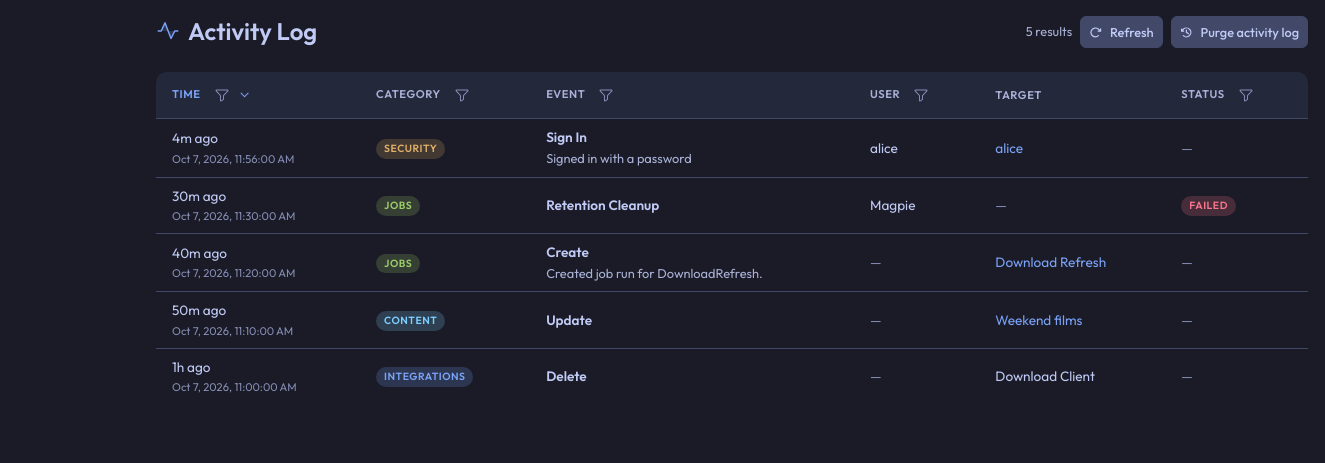
Scenario: ActivityLogPage › WritesTheChoiceToTheUrl_WhenAColumnFilterIsChosen User alice
Expected: the cell "Magpie" is shown, [854, 177, 979, 233]
Click the button named "Filter by User" at (921, 95), box [908, 82, 934, 108]
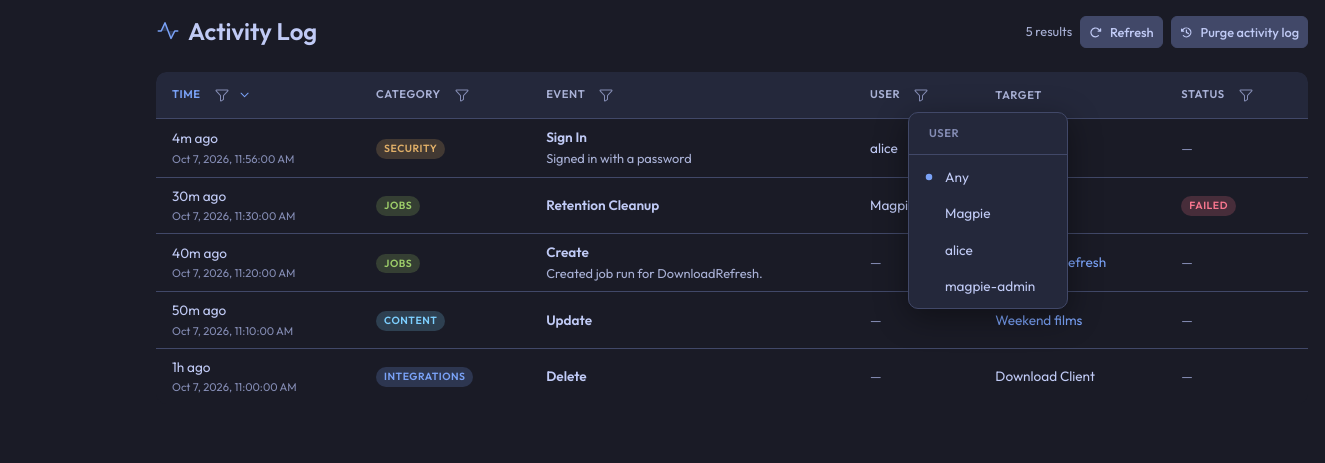
Click the menu item "alice" at (959, 250), box [945, 241, 973, 259]
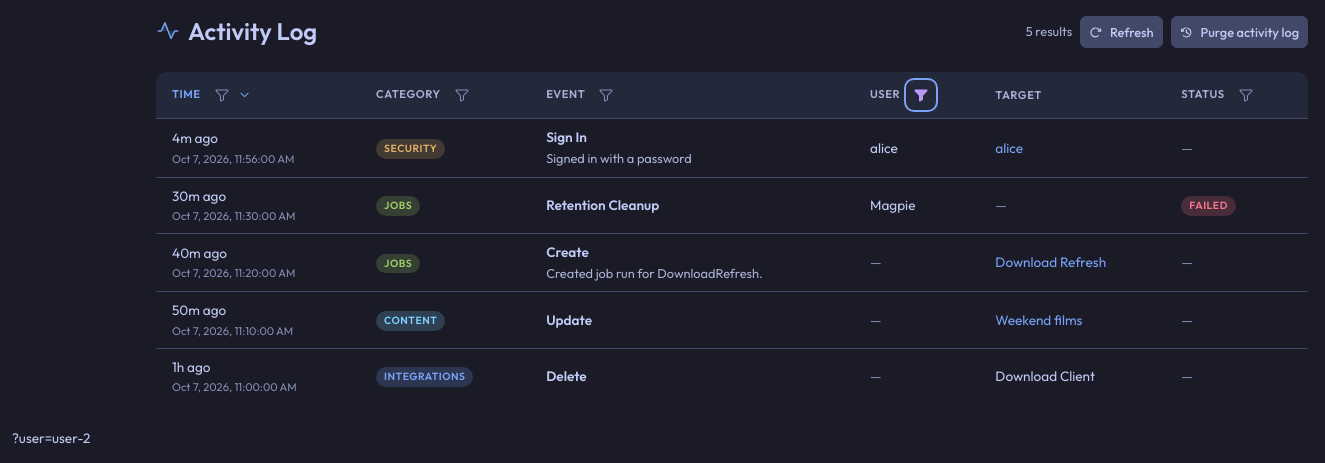
Now the text with test id "activity-log-page__location-search" reads "?user=user-2", box [12, 429, 90, 447]
